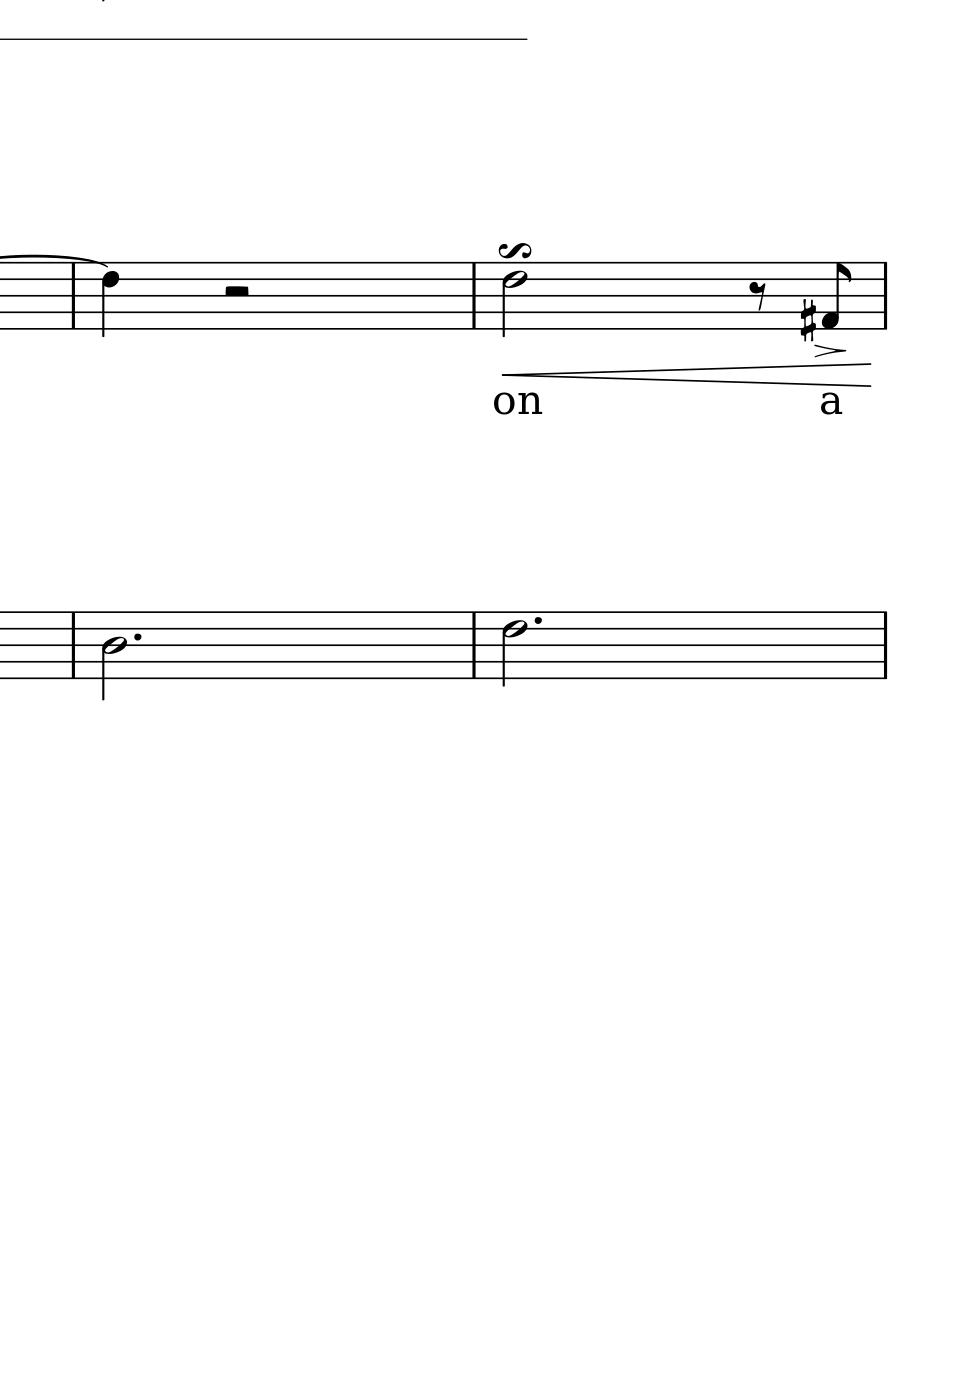2_4: (99, 609, 126, 702)
2_6: (500, 609, 530, 689), (500, 262, 530, 340)
4_6: (98, 260, 121, 339)
8_1: (818, 261, 852, 330)
Accent_above: (811, 343, 848, 359)
Crescendo_hairpin: (501, 359, 871, 390)
Inverted_turn: (495, 240, 533, 261)
Rests2: (220, 283, 253, 303)
Rests8: (747, 279, 770, 312)
Sharp: (797, 297, 817, 344)
Single_barline: (465, 263, 485, 330), (875, 262, 894, 330), (876, 611, 894, 679), (465, 612, 483, 679), (65, 264, 82, 329), (66, 612, 80, 679)
dot: (531, 613, 545, 627), (132, 631, 143, 644)
